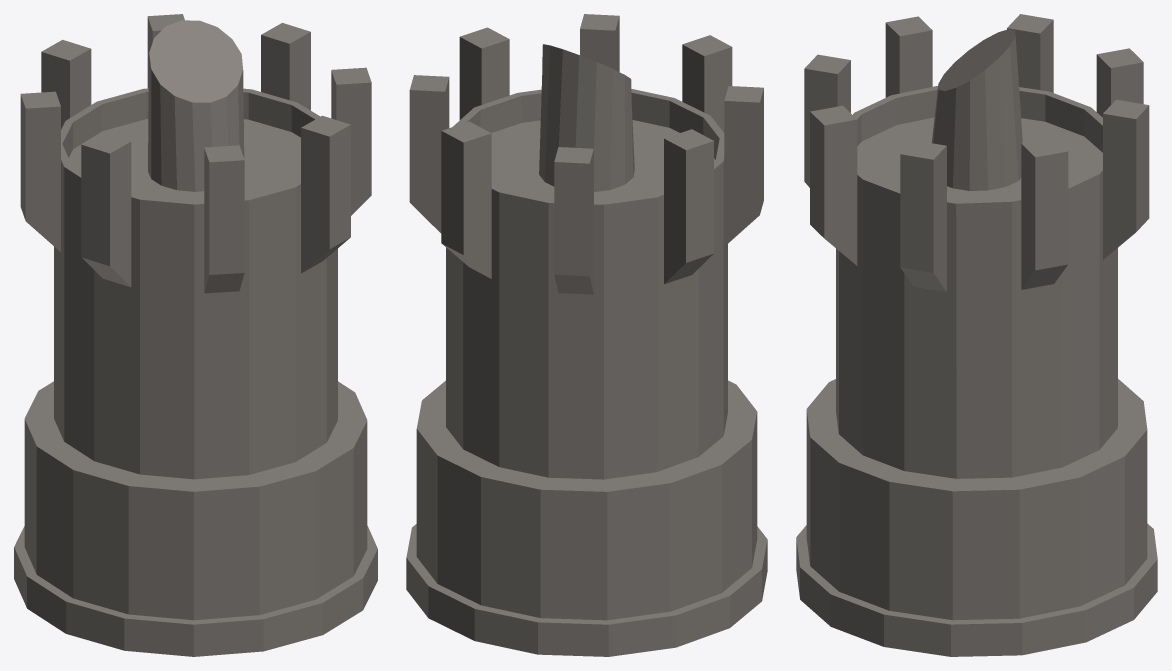
Rendered from Tower.fbx.
The picture shows the model from 3 angles, left to right: view 1: azimuth 30°, elevation 25°; view 2: azimuth 150°, elevation 25°; view 3: azimuth 270°, elevation 25°; orthographic projection.
Parts seen in each view (by area): view 1: Cylinder; view 2: Cylinder; view 3: Cylinder.
Part boxes in pixels (bbox=[...]): Cylinder: bbox=[14, 14, 377, 656]; Cylinder: bbox=[406, 14, 767, 656]; Cylinder: bbox=[796, 14, 1157, 656].
Bounding box in the file's own units: 44.82 × 74.78 × 44.82.
